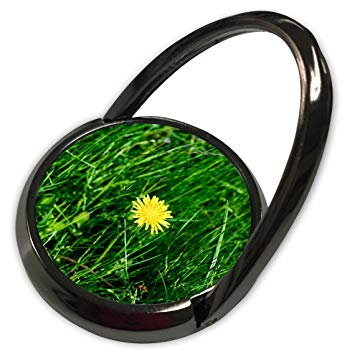dandelion: (130, 194, 172, 233)
